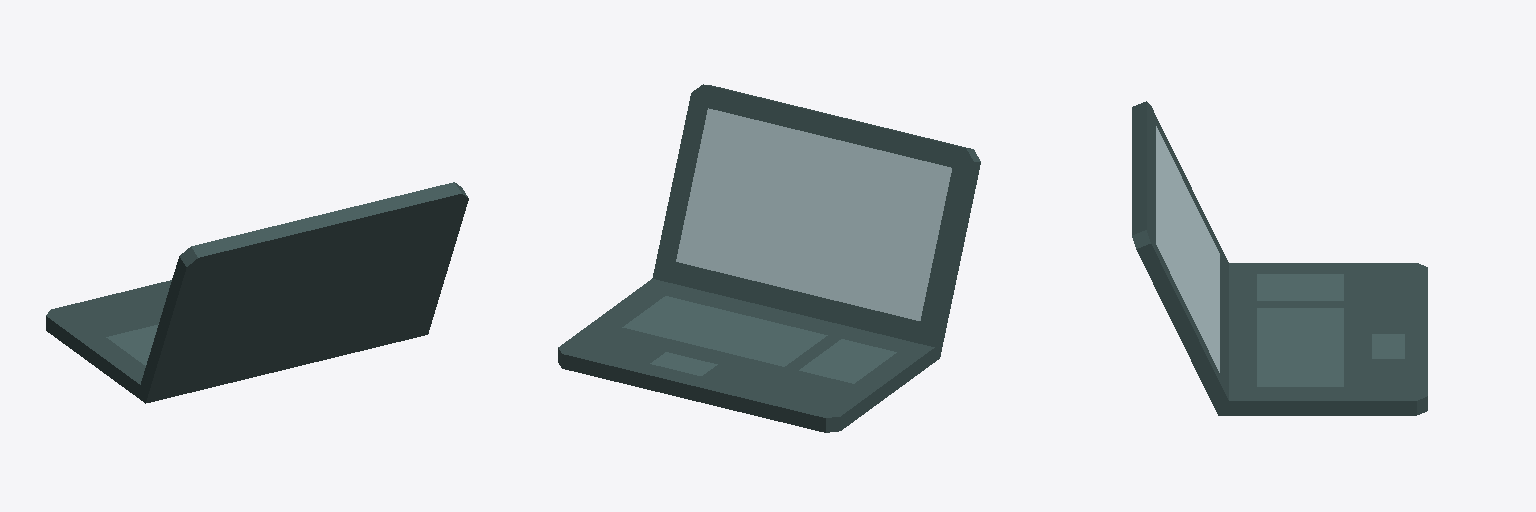
The model's file is laptop.obj.
3 renders of one model, left to right at view 1: azimuth 30°, elevation 25°; view 2: azimuth 150°, elevation 25°; view 3: azimuth 270°, elevation 25°, orthographic.
Parts seen in each view (by area): view 1: laptop; view 2: laptop; view 3: laptop.
Boxes of the visible parts, x1,y1,x2,y2 form: laptop: [46, 182, 468, 403]; laptop: [558, 84, 980, 432]; laptop: [1132, 101, 1427, 415].
Bounding box in the file's own units: 0.264 × 0.1618 × 0.2401.